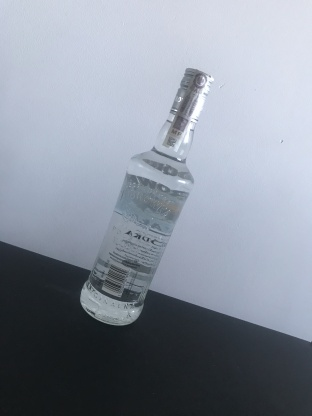nakretka: (168, 64, 216, 128)
